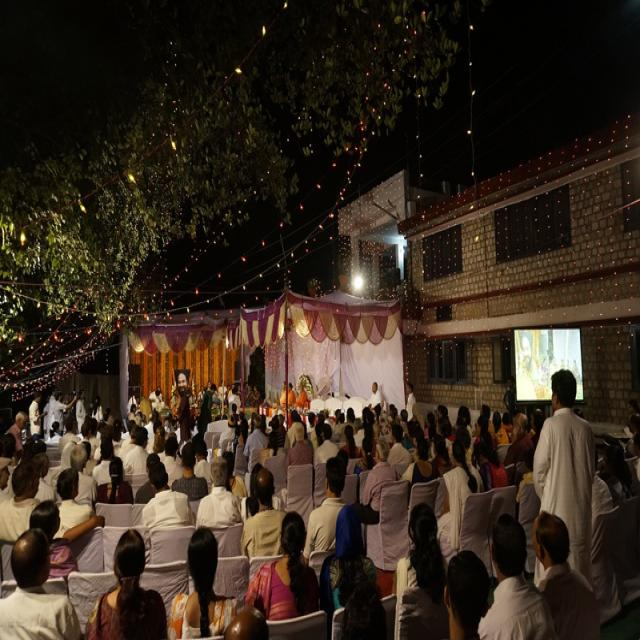body: (531, 366, 596, 587), (479, 510, 557, 640), (83, 527, 170, 640), (0, 527, 85, 640), (530, 507, 601, 640), (244, 509, 320, 622), (166, 524, 239, 640), (393, 500, 448, 640), (434, 437, 486, 570), (610, 410, 640, 602), (218, 403, 452, 427), (299, 455, 347, 568), (141, 460, 195, 560), (349, 439, 398, 549), (28, 498, 81, 598), (239, 466, 290, 558), (442, 547, 492, 640), (195, 456, 242, 546), (516, 330, 582, 390), (172, 366, 260, 409), (0, 456, 41, 544), (51, 466, 96, 542), (0, 458, 41, 540), (334, 499, 381, 561), (239, 460, 282, 524), (590, 451, 612, 573), (170, 440, 210, 503), (503, 412, 536, 488), (242, 414, 270, 498), (94, 455, 136, 506), (283, 421, 315, 485), (602, 440, 635, 502), (407, 439, 438, 504), (128, 388, 174, 430), (222, 599, 270, 639), (134, 451, 170, 504), (69, 444, 99, 506), (475, 439, 509, 493), (23, 437, 48, 510), (386, 421, 412, 482), (518, 450, 542, 515), (58, 413, 82, 474), (312, 421, 340, 472), (122, 426, 151, 474), (221, 449, 248, 500), (3, 409, 28, 462), (52, 390, 78, 439), (30, 450, 54, 503), (161, 436, 185, 489), (473, 412, 496, 467), (446, 427, 476, 469), (74, 439, 100, 487), (162, 435, 184, 491), (452, 402, 474, 456), (92, 436, 115, 487), (112, 419, 138, 462), (44, 388, 102, 407), (406, 435, 431, 479), (430, 432, 452, 481), (352, 434, 378, 475), (283, 408, 308, 449), (28, 390, 48, 439), (175, 386, 192, 442), (200, 381, 218, 431), (193, 439, 213, 483), (490, 409, 510, 449), (365, 380, 384, 420), (118, 421, 136, 463), (241, 450, 271, 475), (75, 388, 90, 436), (358, 421, 377, 458), (75, 421, 95, 455), (41, 390, 54, 442), (479, 403, 496, 442), (404, 380, 416, 431), (295, 380, 311, 416), (46, 385, 58, 432), (152, 426, 167, 463), (84, 416, 102, 446), (500, 410, 514, 445), (308, 410, 319, 454), (98, 409, 112, 442), (227, 386, 242, 416), (336, 446, 351, 476), (101, 403, 115, 434), (2, 430, 16, 460), (91, 393, 104, 422), (46, 420, 62, 443), (571, 401, 587, 422), (287, 382, 297, 411), (353, 416, 362, 448), (279, 379, 287, 414), (278, 413, 287, 444)
